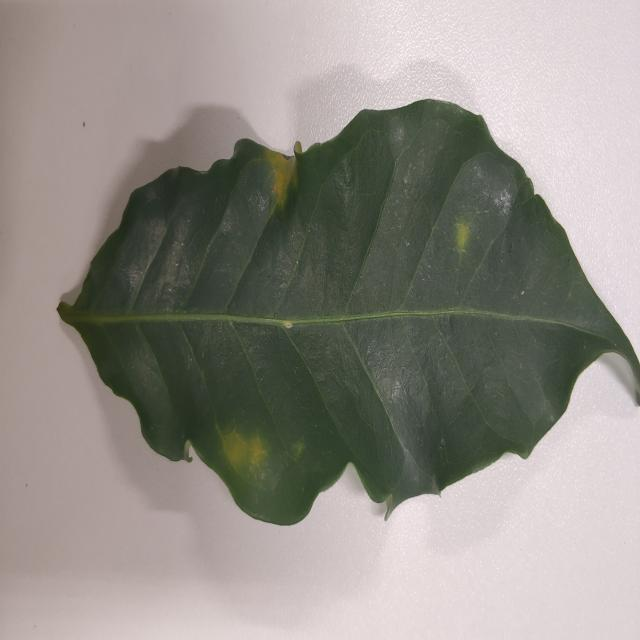Enfermedad-Roya: (57, 99, 640, 530)
